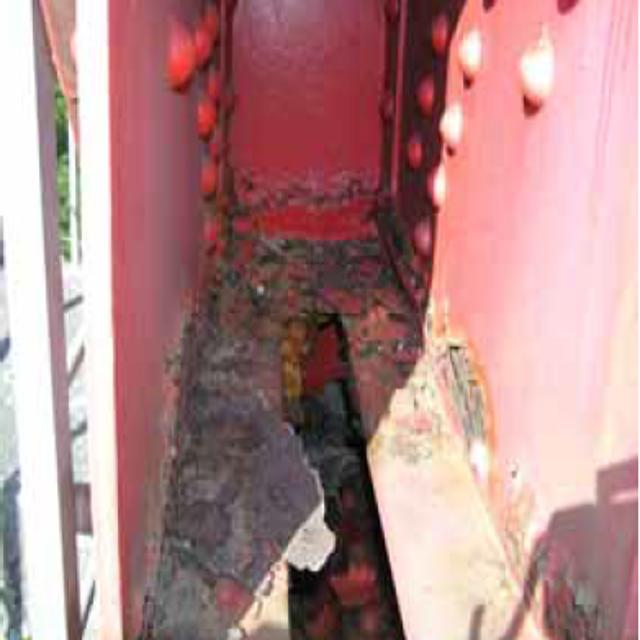corrosion: (177, 145, 444, 640)
